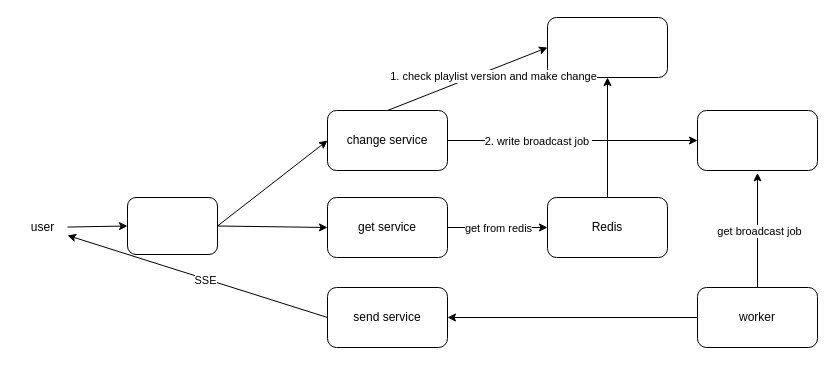
Some shapes in this 835 by 365 pixel diagram are drawn without their labels. Here are the shapes that lost their labels. From the top down, the centre of each, then its label:
At pixel 607 47: "Playlist Table".
At pixel 757 140: "Outbox Table".
At pixel 172 225: "API Gateway".
